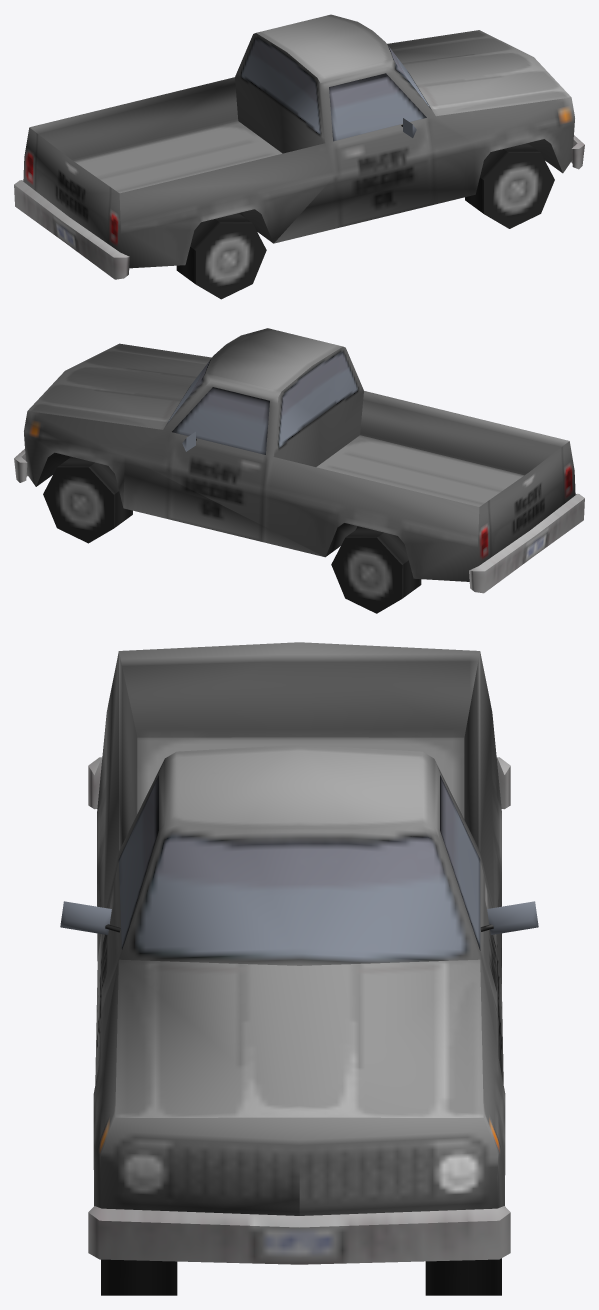
Rendered from fhqDiecast18PickupTruck.fbx.
3 views of the same model, one above another, from view 1: azimuth 30°, elevation 25°; view 2: azimuth 150°, elevation 25°; view 3: azimuth 270°, elevation 25° (orthographic). The views are drawn at different scales.
Parts seen in each view (by area): view 1: Vehicles_PickUpTruck; view 2: Vehicles_PickUpTruck; view 3: Vehicles_PickUpTruck.
Part boxes in pixels (x1,y1,x2,y2): Vehicles_PickUpTruck: [14, 14, 584, 299]; Vehicles_PickUpTruck: [14, 328, 584, 613]; Vehicles_PickUpTruck: [60, 642, 538, 1295].
Bounding box in the file's own units: 0.445 × 0.1625 × 0.1924.
